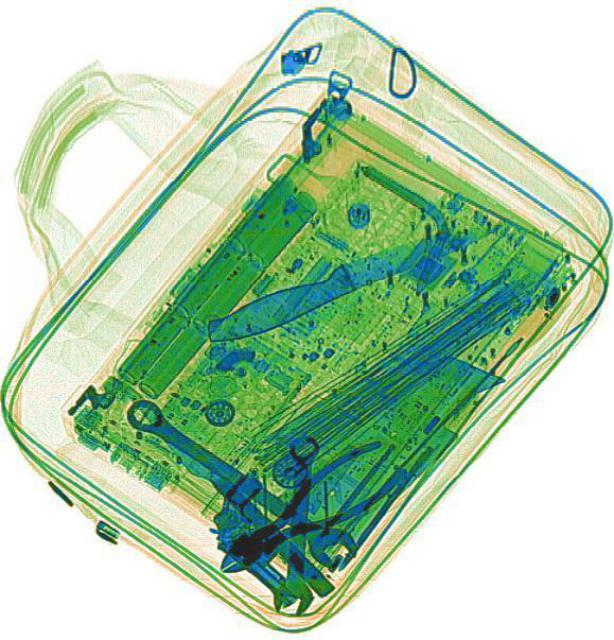Gun: (190, 468, 338, 612)
Knife: (108, 367, 332, 599), (201, 210, 503, 346)
Pliers: (197, 432, 407, 588)
Wrench: (116, 387, 364, 577), (269, 432, 325, 618)
